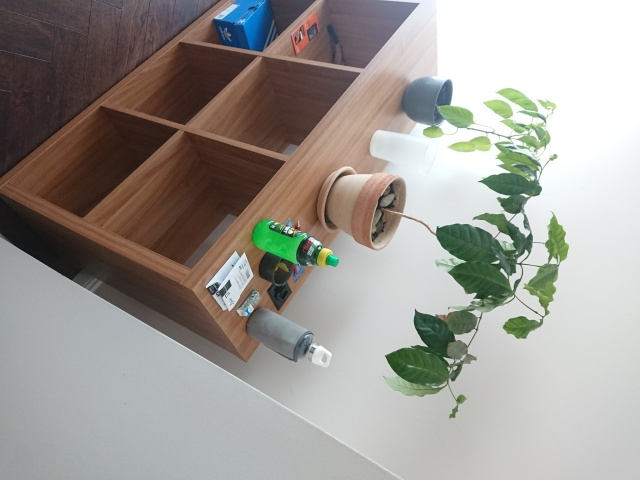Vindi Iso Sport Lemon-Grapefruit 500mL: (250, 217, 340, 269)
